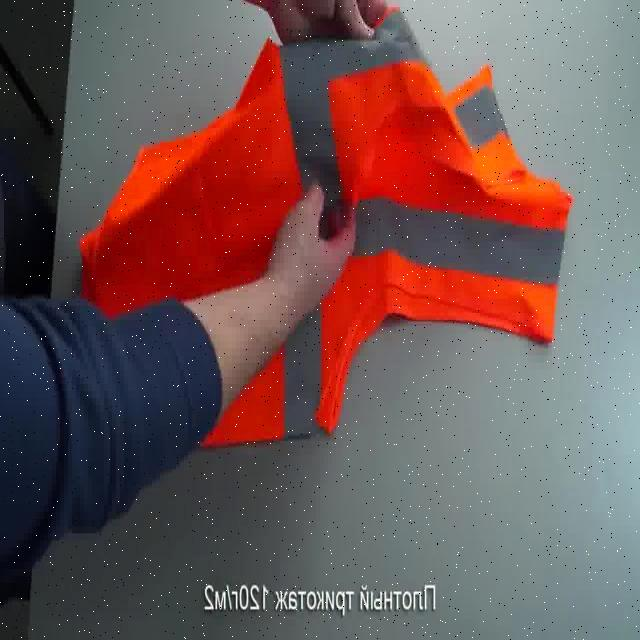Vest: (286, 6, 576, 603)
